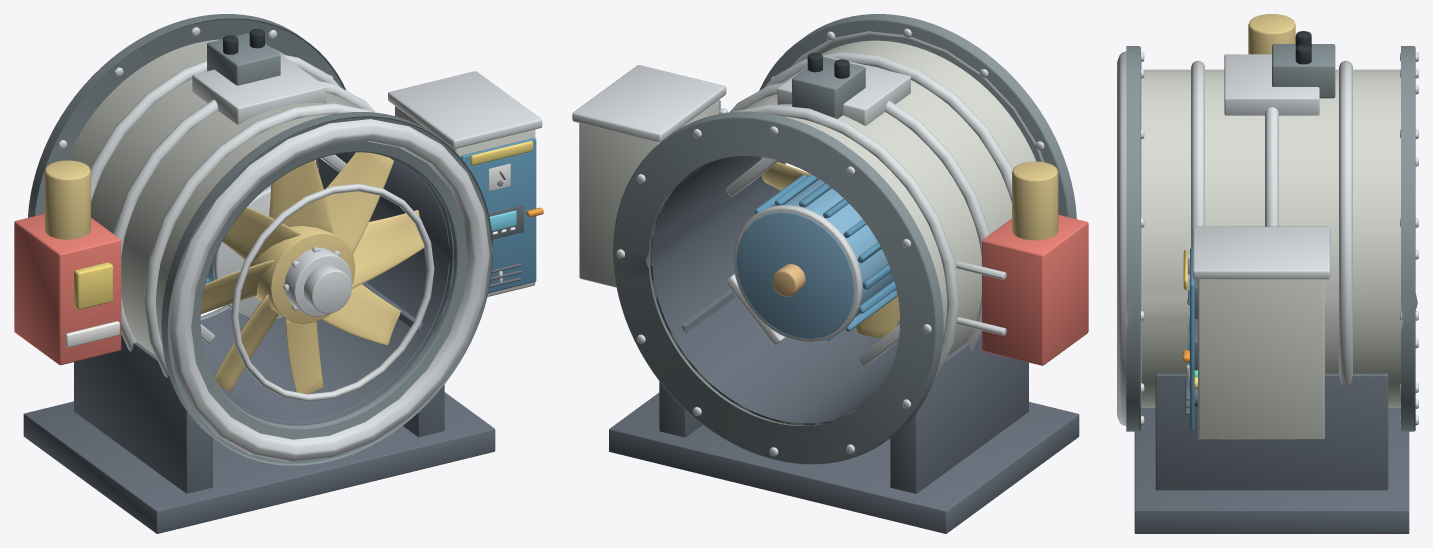
File: vent_fan_assembly.glb
The picture shows the model from 3 angles, left to right: view 1: azimuth 30°, elevation 25°; view 2: azimuth 150°, elevation 25°; view 3: azimuth 270°, elevation 25°; orthographic projection. The views are drawn at different scales.
Parts seen in each view (by area): view 1: Fan_Cylindrical_Casing, Fan_Cylindrical_Casing__Steel, Flange_Rings, Axial_Impeller_Blades, Fan_Cylindrical_Casing__PebbleGrey, Fire_Damper_Actuator, Local_Starter_Enclosure__Steel, Local_Starter_Enclosure__MarineBlueCoating, Axial_Impeller_Blades__Steel, Fire_Damper_Actuator__GoldBrass, 440V_Drive_Motor__Iron, 440V_Drive_Motor__Steel (+5 smaller); view 2: Fan_Cylindrical_Casing, Flange_Rings, Fan_Cylindrical_Casing__PebbleGrey, Fan_Cylindrical_Casing__Steel, 440V_Drive_Motor, Fire_Damper_Actuator, Local_Starter_Enclosure, Local_Starter_Enclosure__Steel, 440V_Drive_Motor__Steel, Fire_Damper_Actuator__GoldBrass, 440V_Drive_Motor__Iron, 440V_Drive_Motor__MarineBlueCoating (+4 smaller); view 3: Fan_Cylindrical_Casing__PebbleGrey, Fan_Cylindrical_Casing, Local_Starter_Enclosure, Fan_Cylindrical_Casing__Steel, Flange_Rings, Local_Starter_Enclosure__Steel, 440V_Drive_Motor__Iron, Fire_Damper_Actuator__GoldBrass, Local_Starter_Enclosure__MarineBlueCoating, Flange_Rings__Steel, Local_Starter_Enclosure__DarkPlinth, 440V_Drive_Motor__RubberBlack.
Part boxes in pixels (left/top/right/bottom): Fan_Cylindrical_Casing: left=23, top=152, right=495, bottom=533; Fan_Cylindrical_Casing__Steel: left=90, top=53, right=489, bottom=461; Flange_Rings: left=28, top=14, right=493, bottom=465; Axial_Impeller_Blades: left=201, top=152, right=423, bottom=401; Fan_Cylindrical_Casing__PebbleGrey: left=67, top=39, right=358, bottom=355; Fire_Damper_Actuator: left=14, top=214, right=121, bottom=365; Local_Starter_Enclosure__Steel: left=388, top=71, right=542, bottom=282; Local_Starter_Enclosure__MarineBlueCoating: left=461, top=138, right=536, bottom=293; Axial_Impeller_Blades__Steel: left=283, top=246, right=351, bottom=316; Fire_Damper_Actuator__GoldBrass: left=44, top=160, right=90, bottom=239; 440V_Drive_Motor__Iron: left=207, top=32, right=280, bottom=85; 440V_Drive_Motor__Steel: left=200, top=154, right=346, bottom=343; Fan_Cylindrical_Casing: left=609, top=156, right=1079, bottom=533; Flange_Rings: left=613, top=14, right=1076, bottom=464; Fan_Cylindrical_Casing__PebbleGrey: left=649, top=40, right=1036, bottom=425; Fan_Cylindrical_Casing__Steel: left=730, top=31, right=1043, bottom=378; 440V_Drive_Motor: left=736, top=179, right=893, bottom=338; Fire_Damper_Actuator: left=982, top=215, right=1088, bottom=365; Local_Starter_Enclosure: left=579, top=100, right=719, bottom=287; Local_Starter_Enclosure__Steel: left=572, top=65, right=727, bottom=142; 440V_Drive_Motor__Steel: left=725, top=157, right=899, bottom=366; Fire_Damper_Actuator__GoldBrass: left=1012, top=161, right=1058, bottom=240; 440V_Drive_Motor__Iron: left=792, top=56, right=865, bottom=118; 440V_Drive_Motor__MarineBlueCoating: left=741, top=174, right=897, bottom=340; Fan_Cylindrical_Casing__PebbleGrey: left=1141, top=69, right=1402, bottom=407; Fan_Cylindrical_Casing: left=1134, top=373, right=1409, bottom=533; Local_Starter_Enclosure: left=1198, top=279, right=1324, bottom=439; Fan_Cylindrical_Casing__Steel: left=1117, top=51, right=1352, bottom=426; Flange_Rings: left=1126, top=46, right=1417, bottom=431; Local_Starter_Enclosure__Steel: left=1186, top=226, right=1330, bottom=404; 440V_Drive_Motor__Iron: left=1272, top=44, right=1335, bottom=98; Fire_Damper_Actuator__GoldBrass: left=1248, top=14, right=1295, bottom=54; Local_Starter_Enclosure__MarineBlueCoating: left=1190, top=247, right=1194, bottom=430; Flange_Rings__Steel: left=1141, top=52, right=1418, bottom=425; Local_Starter_Enclosure__DarkPlinth: left=1185, top=279, right=1197, bottom=414; 440V_Drive_Motor__RubberBlack: left=1295, top=31, right=1311, bottom=64.
Bounding box in the file's own units: 1.05 × 0.8545 × 0.5713.
